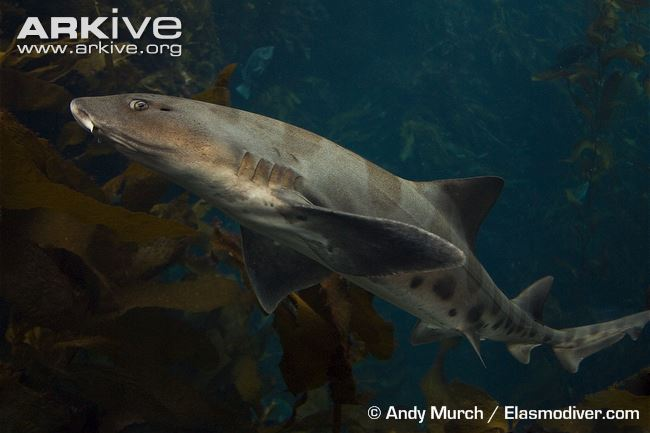shark: (39, 71, 640, 386)
